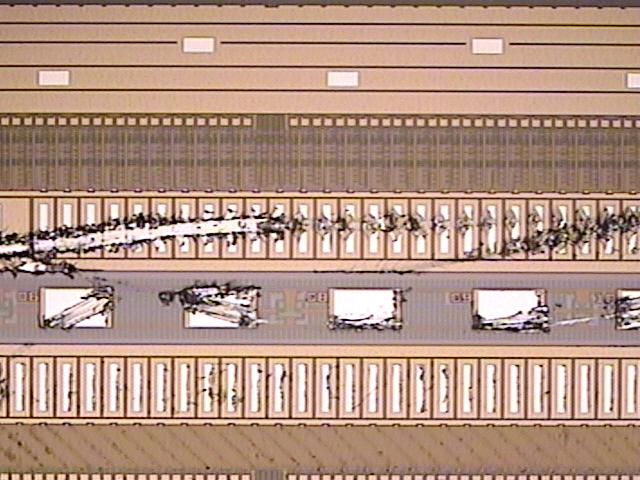SCRATCH: (1, 204, 640, 413)
